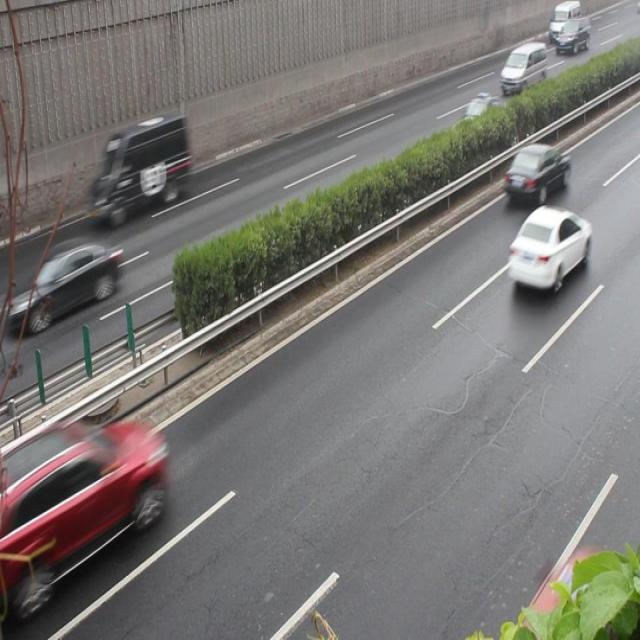car: (18, 423, 167, 581), (22, 239, 120, 326), (505, 206, 589, 288), (502, 142, 567, 203), (450, 96, 507, 146)
truck: (88, 114, 189, 221), (499, 42, 546, 94)
